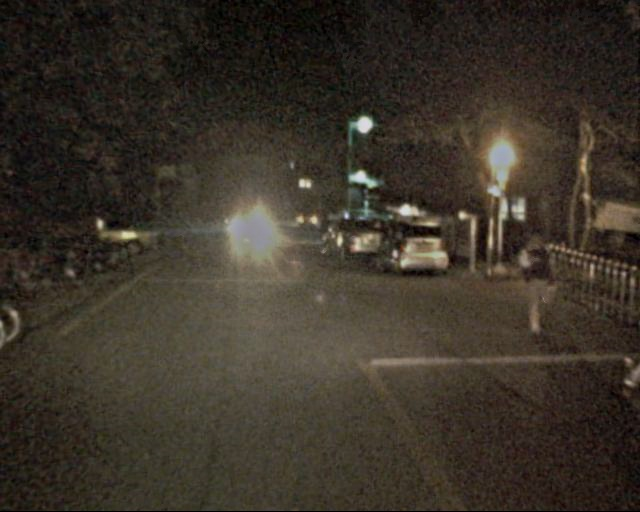person: (510, 231, 559, 343)
